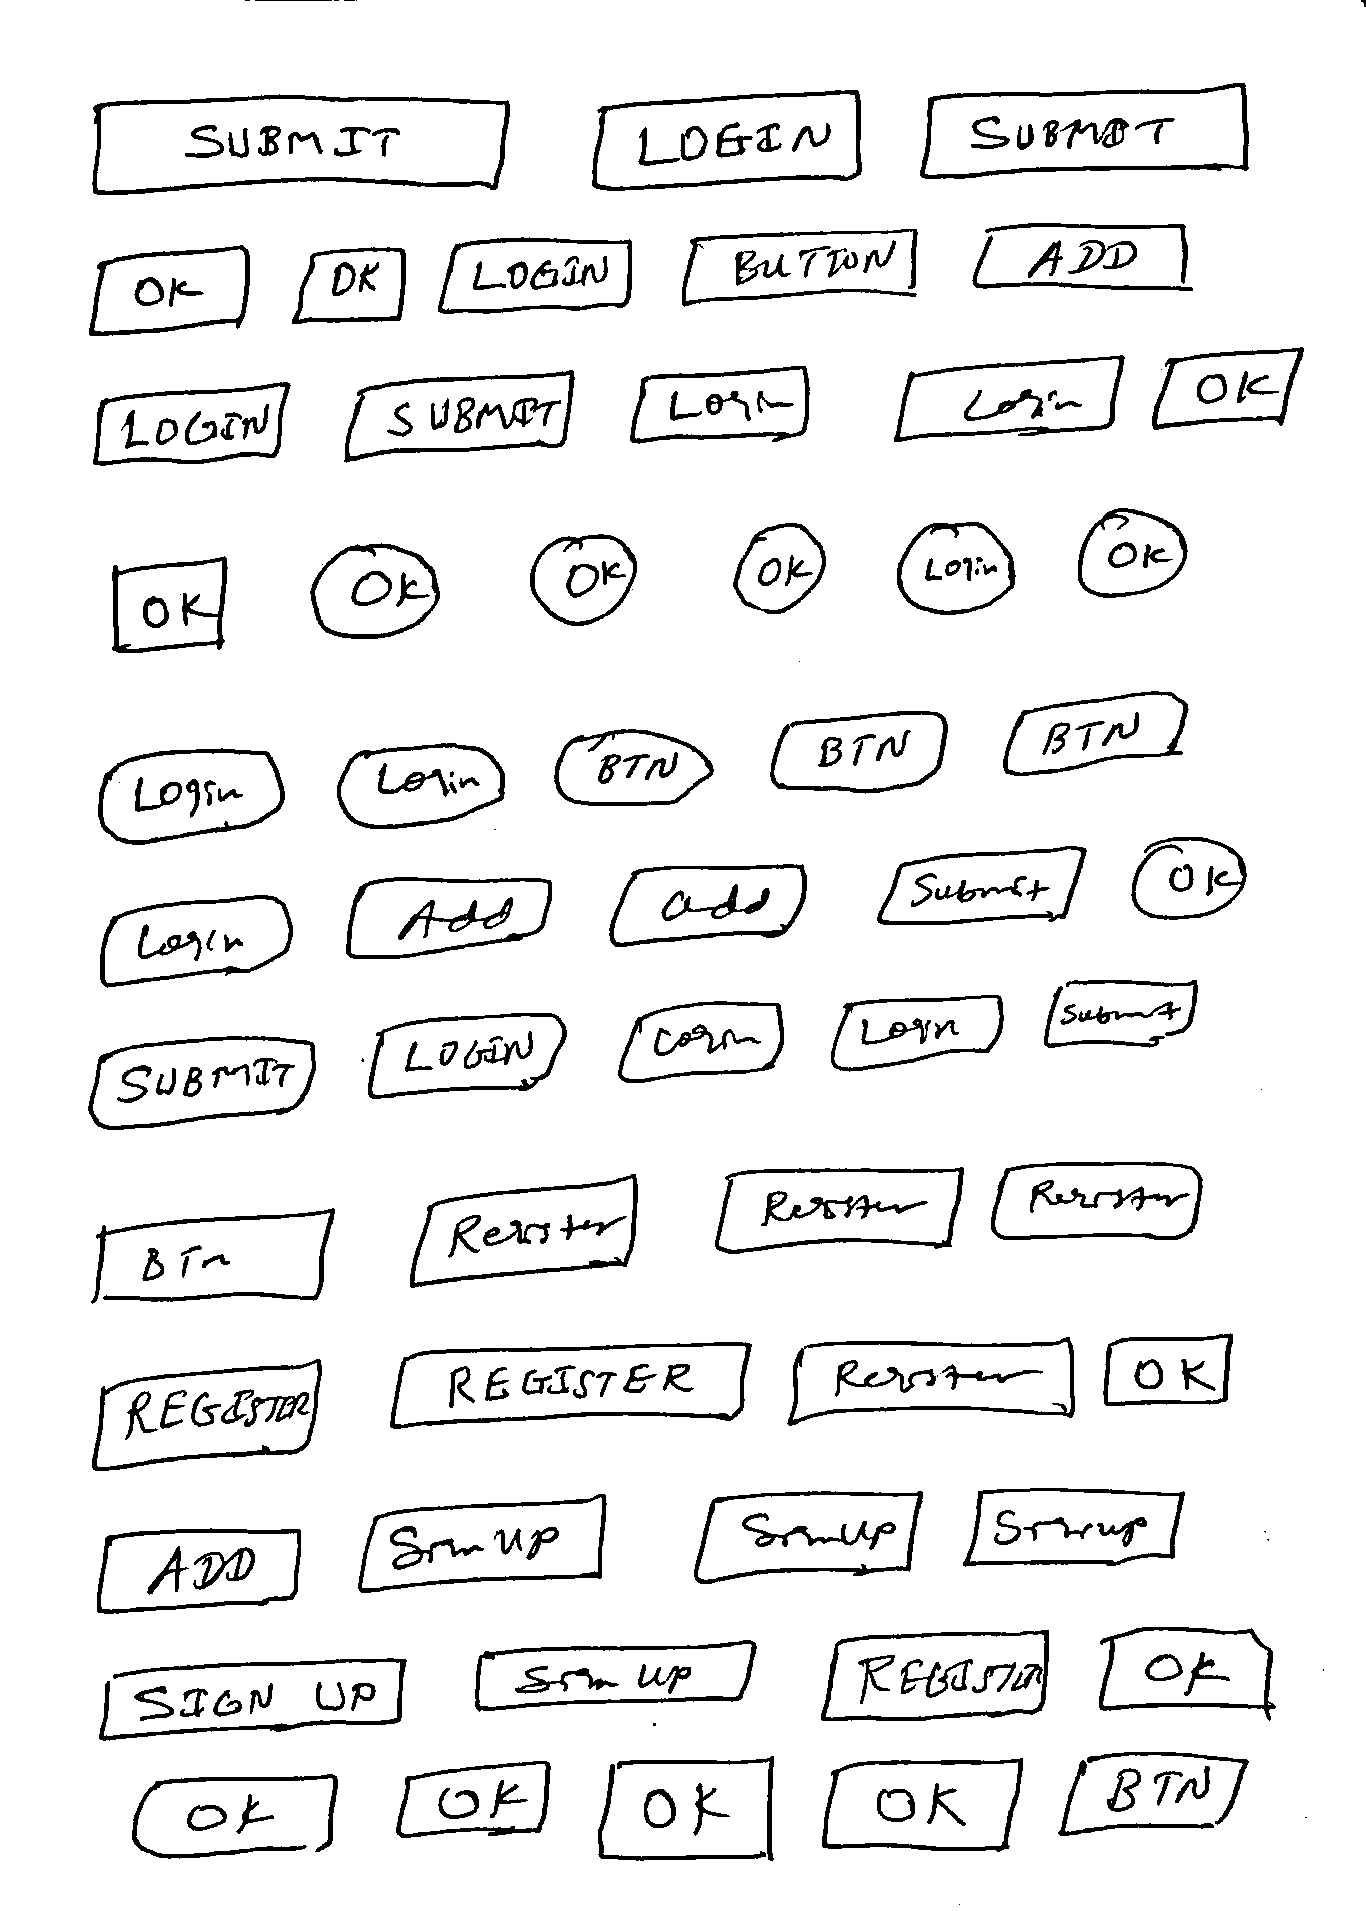Button: (86, 84, 512, 200), (389, 1339, 752, 1431), (915, 81, 1251, 177), (582, 87, 865, 197), (408, 1175, 640, 1290), (98, 1657, 408, 1743), (89, 1360, 324, 1472), (784, 1338, 1076, 1425), (358, 1496, 608, 1595), (92, 1206, 337, 1305), (341, 369, 575, 466), (818, 1627, 1050, 1723), (713, 1166, 965, 1253), (692, 1491, 924, 1586), (87, 1036, 318, 1131), (893, 353, 1125, 443), (475, 1641, 757, 1711), (679, 228, 920, 307), (822, 1757, 1024, 1852), (597, 1757, 778, 1862), (962, 1487, 1189, 1570), (98, 746, 285, 845), (99, 894, 294, 989), (367, 1009, 568, 1101), (132, 1772, 339, 1859), (95, 1527, 302, 1614), (344, 875, 553, 961), (92, 380, 293, 469), (990, 1159, 1205, 1241), (877, 845, 1087, 927), (608, 863, 807, 947), (1001, 689, 1190, 777), (1057, 1751, 1249, 1839), (87, 242, 251, 340), (435, 236, 637, 315), (334, 740, 507, 831), (767, 709, 948, 795), (970, 223, 1192, 293), (1098, 1627, 1277, 1713), (628, 364, 812, 445), (616, 1001, 784, 1083), (829, 995, 1005, 1072), (307, 542, 442, 641), (553, 727, 716, 808), (1152, 346, 1304, 432), (395, 1760, 551, 1842), (109, 556, 229, 658), (896, 522, 1017, 616), (1044, 978, 1199, 1049), (1129, 834, 1249, 922), (1076, 505, 1189, 599), (529, 534, 639, 627), (1101, 1335, 1234, 1407), (293, 245, 408, 324), (730, 522, 826, 613)
